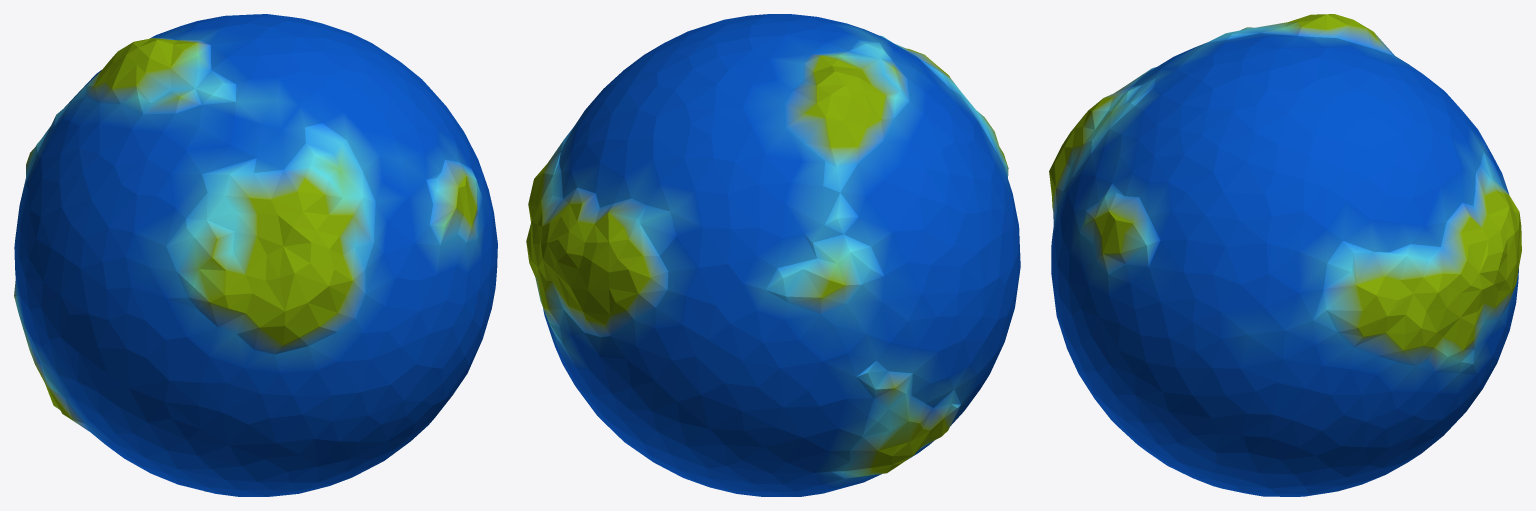
Rendered from planet_6.fbx.
3 views of the same model, side by side, from view 1: azimuth 30°, elevation 25°; view 2: azimuth 150°, elevation 25°; view 3: azimuth 270°, elevation 25° (orthographic). The views are drawn at different scales.
Visible parts, largest first — view 1: file1; view 2: file1; view 3: file1.
Part boxes in pixels (left/top/right/bottom): file1: left=14, top=14, right=497, bottom=496; file1: left=526, top=14, right=1020, bottom=496; file1: left=1049, top=14, right=1521, bottom=496.
Size of the model in its own units: 2 by 2.02 by 2.02.
